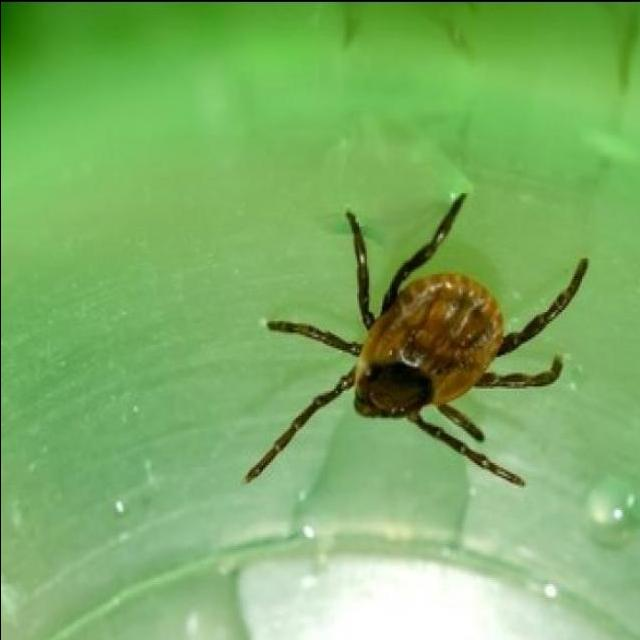Rhipicephalus Sanguineus-F: (245, 193, 585, 486)
